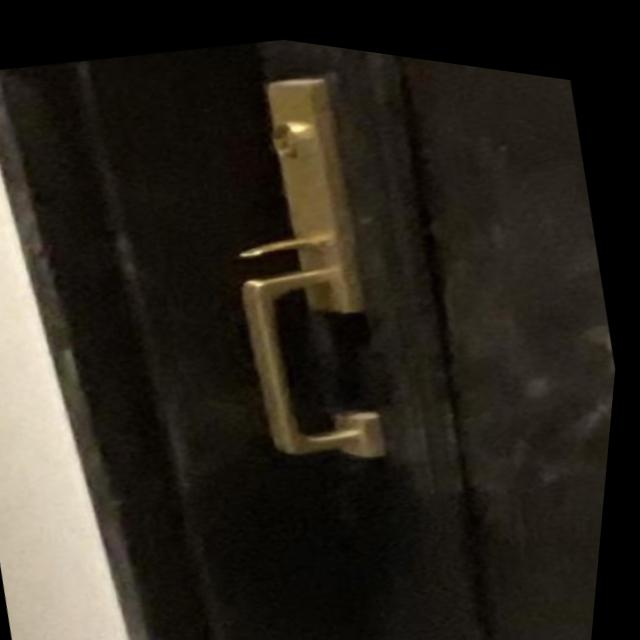door_handle: (206, 221, 451, 489)
